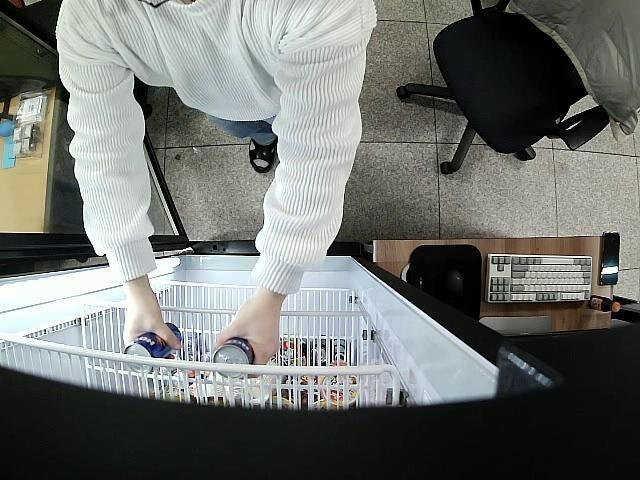16_hot6: (124, 324, 182, 374), (214, 337, 254, 378)
